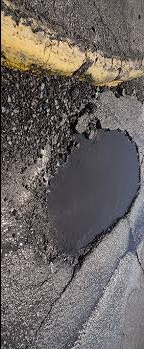pothole: (36, 112, 144, 270)
